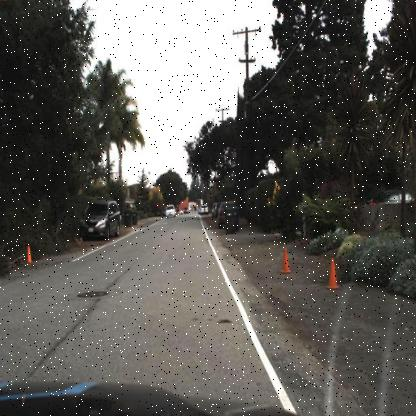car: (77, 194, 121, 242), (218, 198, 239, 230), (159, 204, 173, 220)
